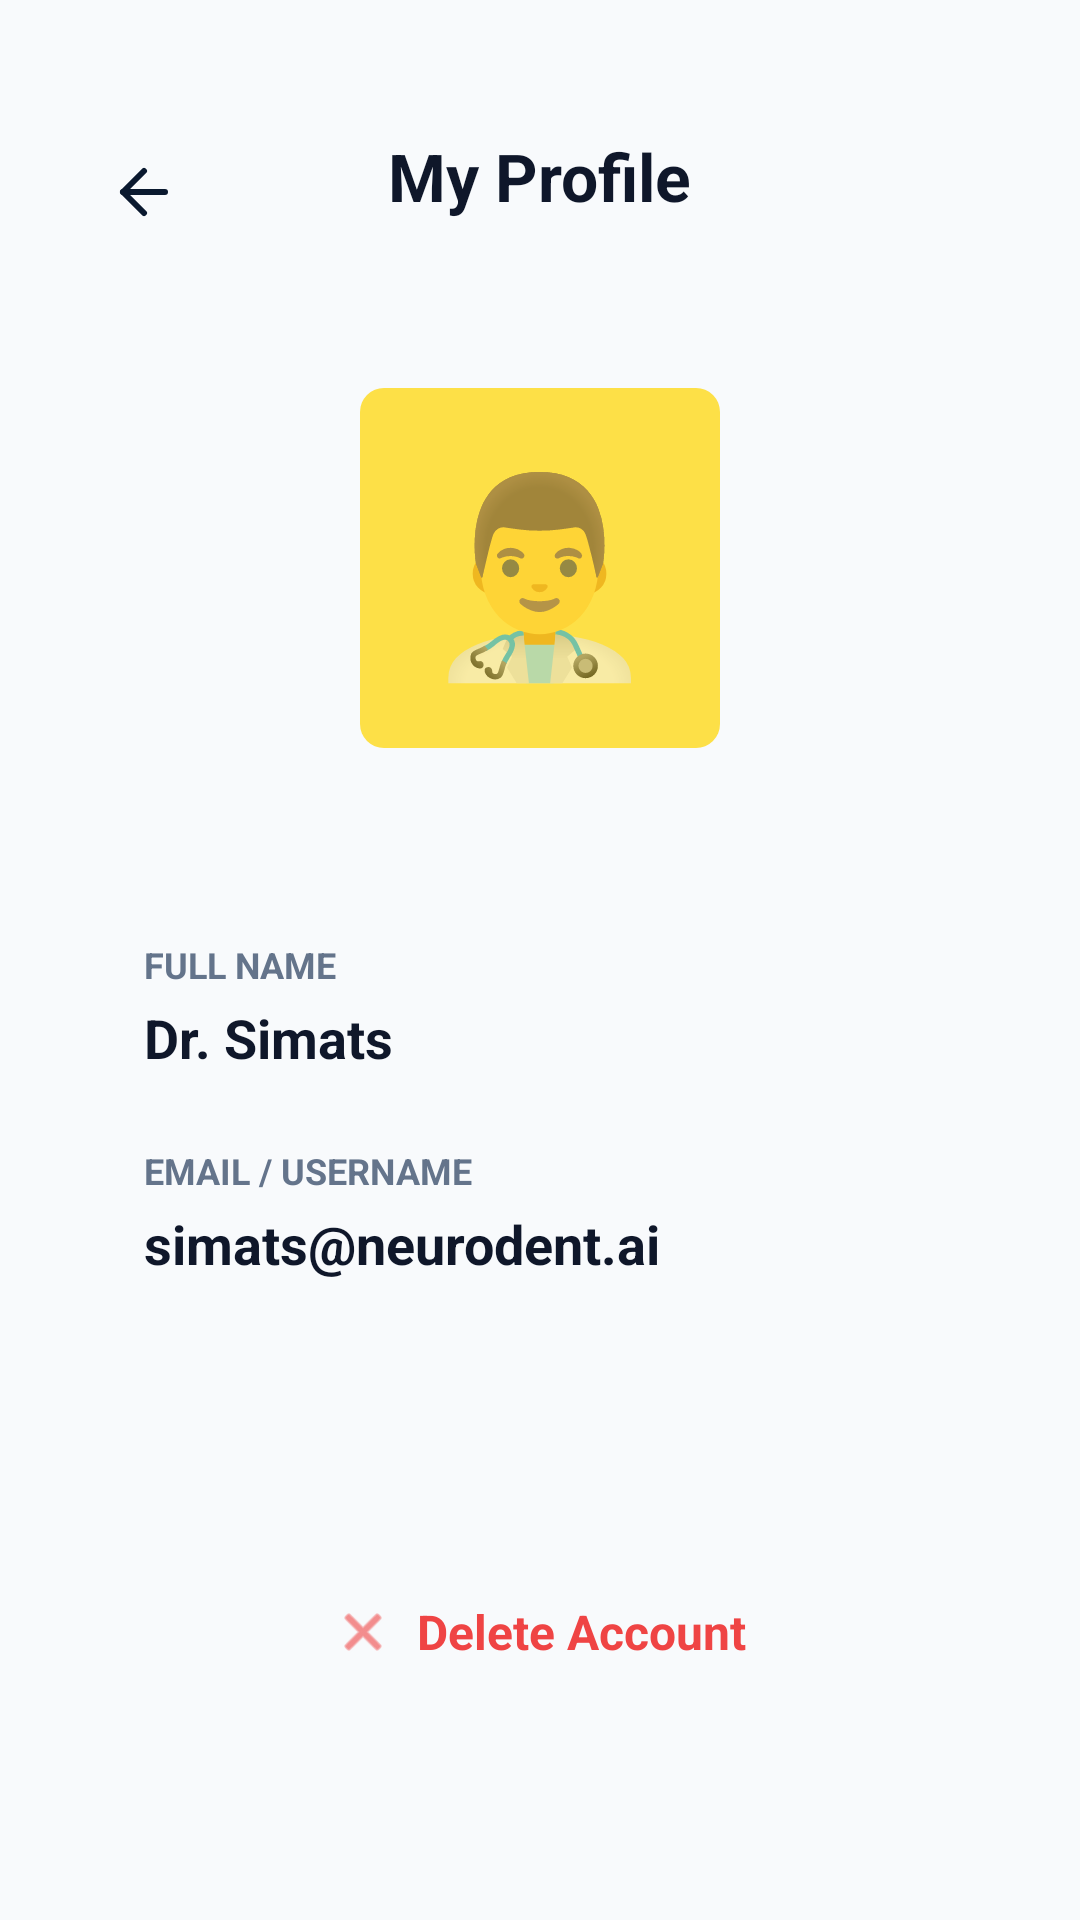

Screen size 1080x1920. Icon name, then its center in pixels as (x=x, y=y):
arrow back: (x=144, y=192)
close clear cancel: (x=363, y=1632)
